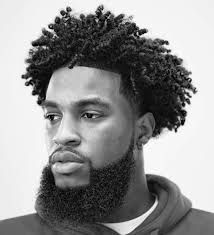black_male: (43, 44, 162, 205)
